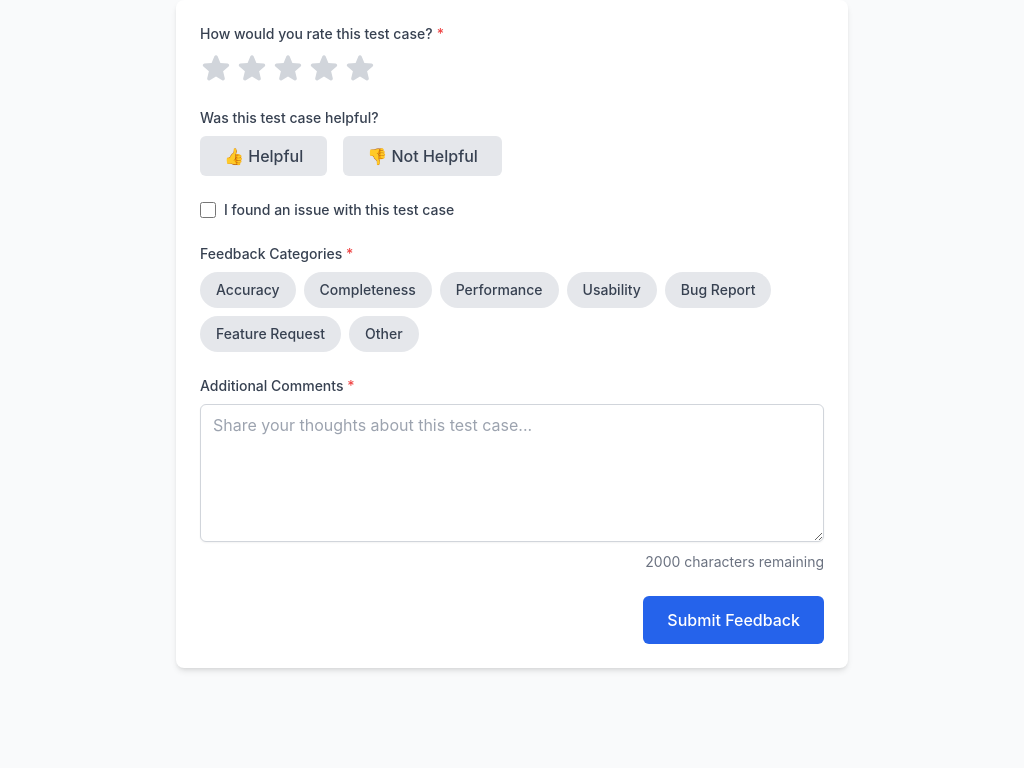
TestCaseFeedback Component › Form Submission › should submit valid feedback successfully
The width and height of the screenshot is (1024, 768).
// Fill form
Click the button named "star" at coordinates (324, 68), box [308, 52, 340, 84]
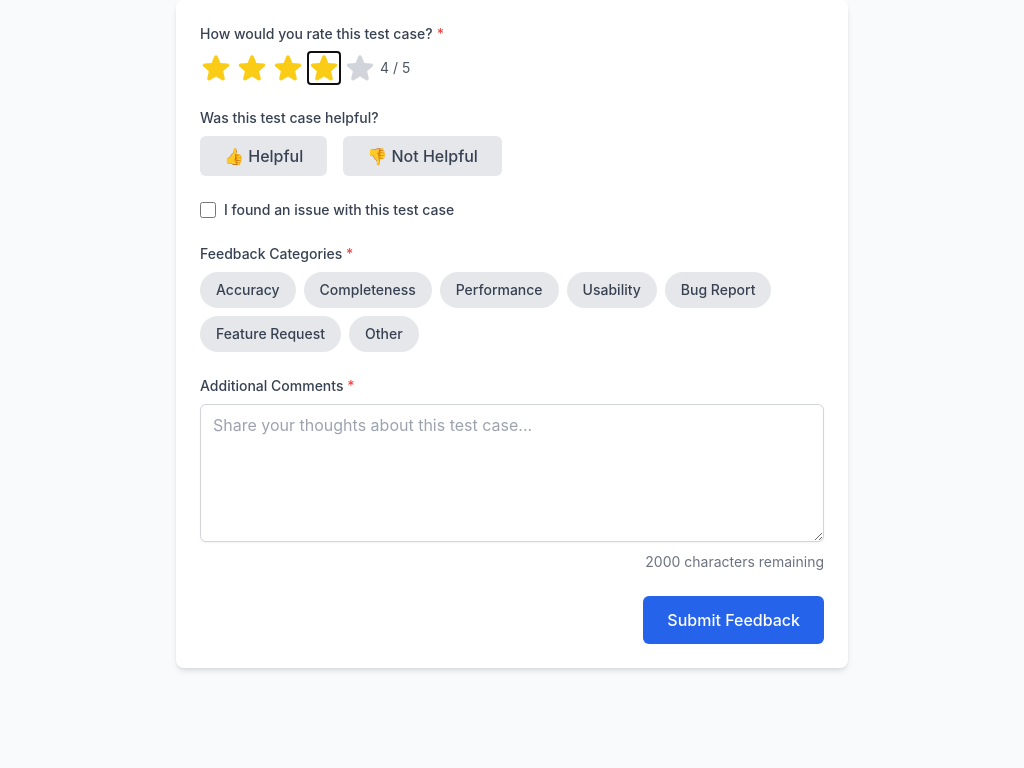
Click the button "👍 Helpful" at coordinates (264, 156), box [200, 136, 327, 176]
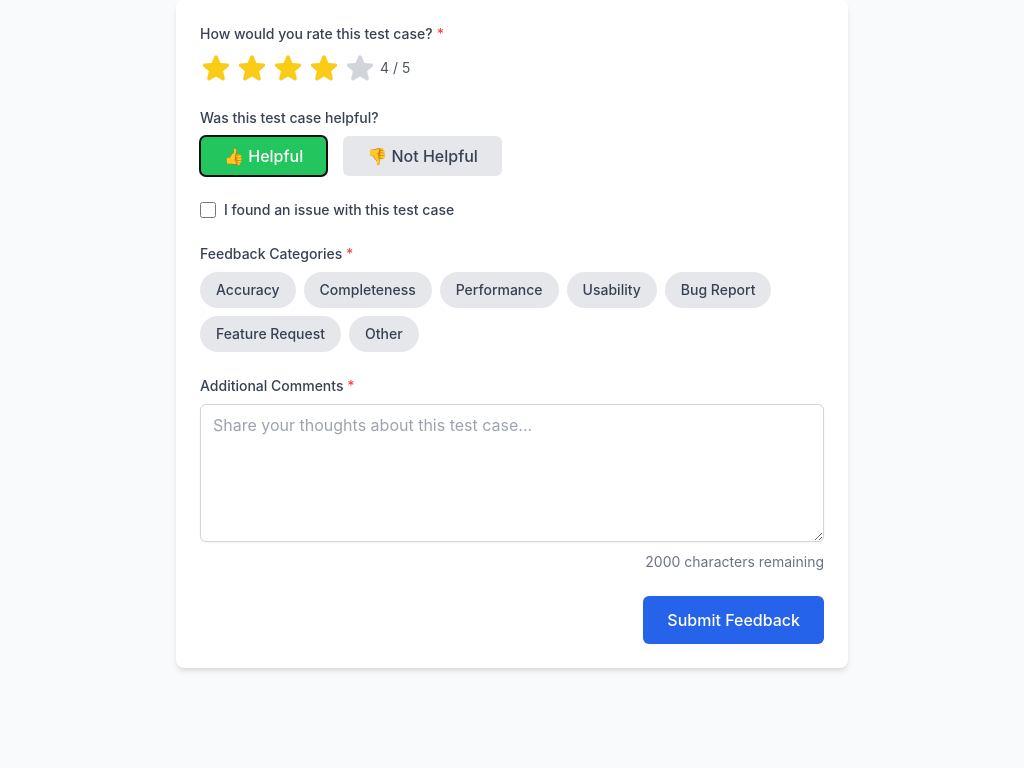
Click the checkbox labelled "I found an issue with this test case" at coordinates (208, 210), box [200, 202, 216, 218]
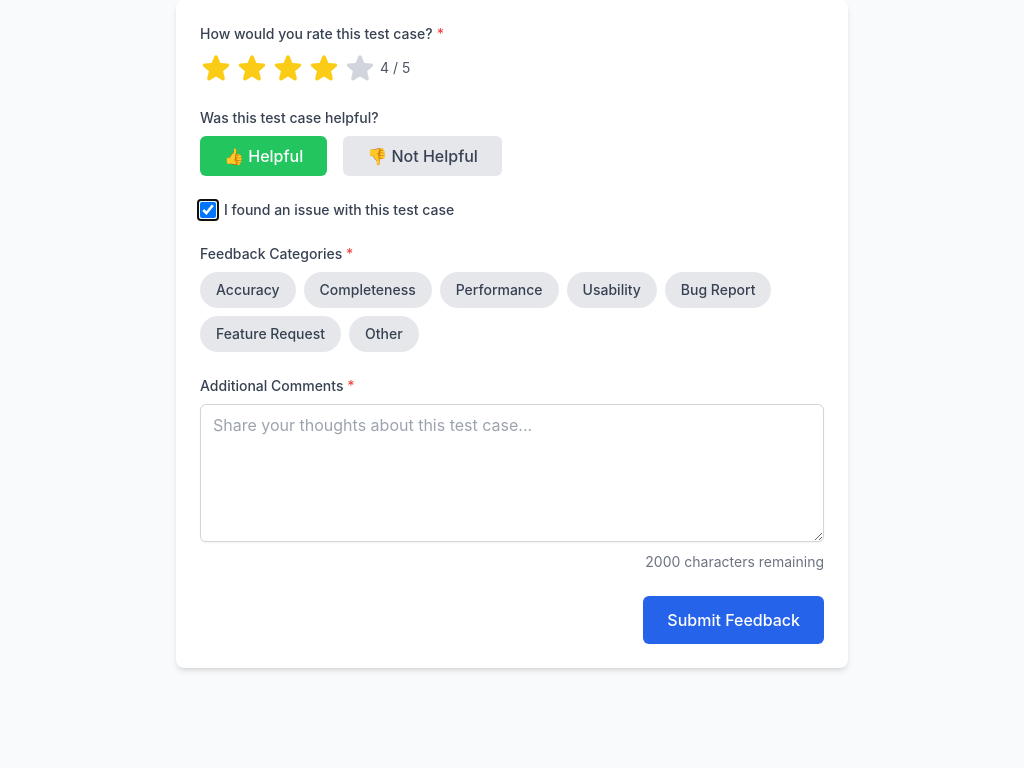
Type "Excellent test coverage!" into the text box with placeholder "Share your thoughts about this test case..." at coordinates (512, 473), box [200, 404, 824, 542]
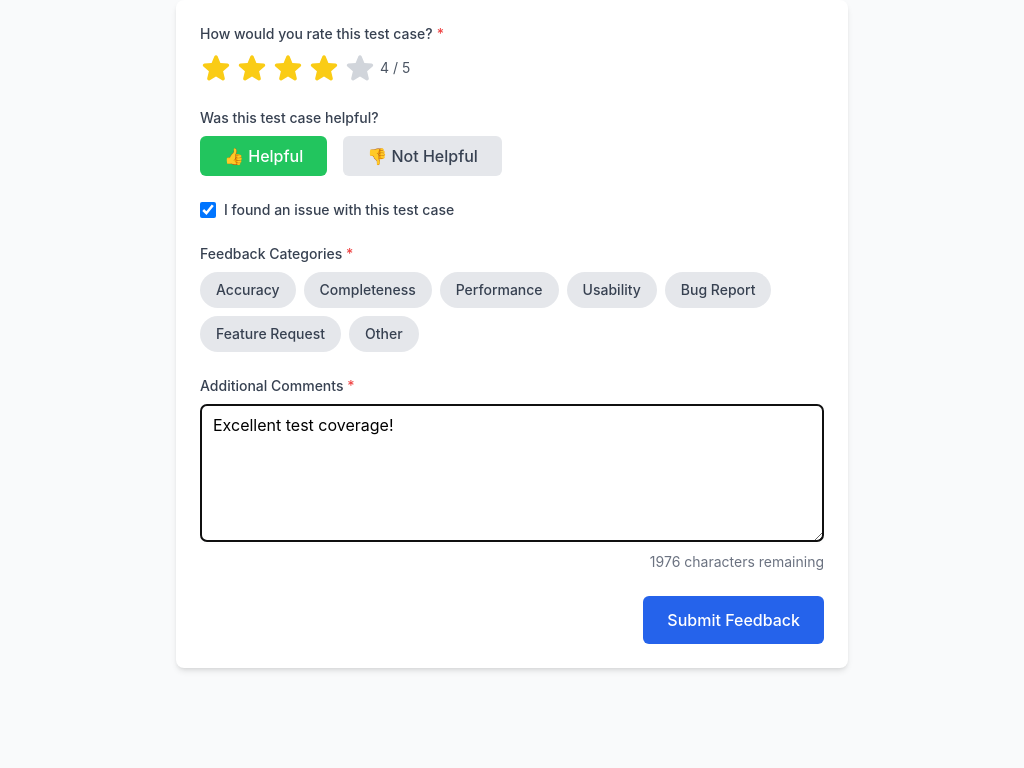
Click the button "Accuracy" at coordinates (248, 290), box [200, 272, 296, 308]
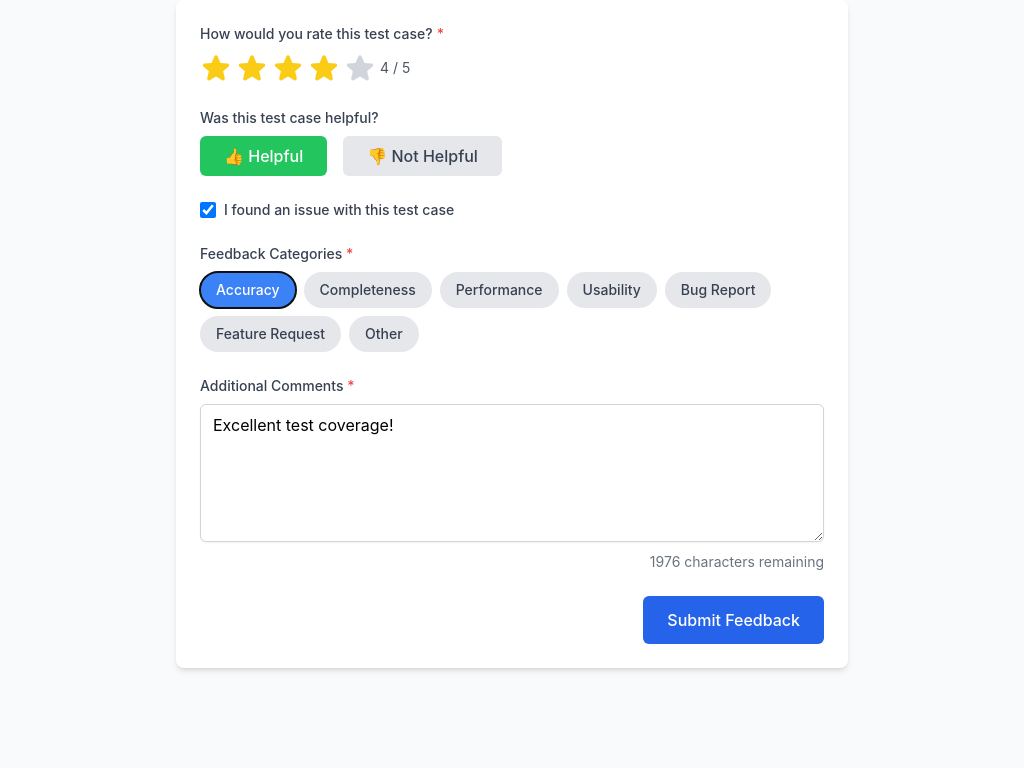
Click the button "Submit Feedback" at coordinates (734, 620), box [643, 596, 824, 644]
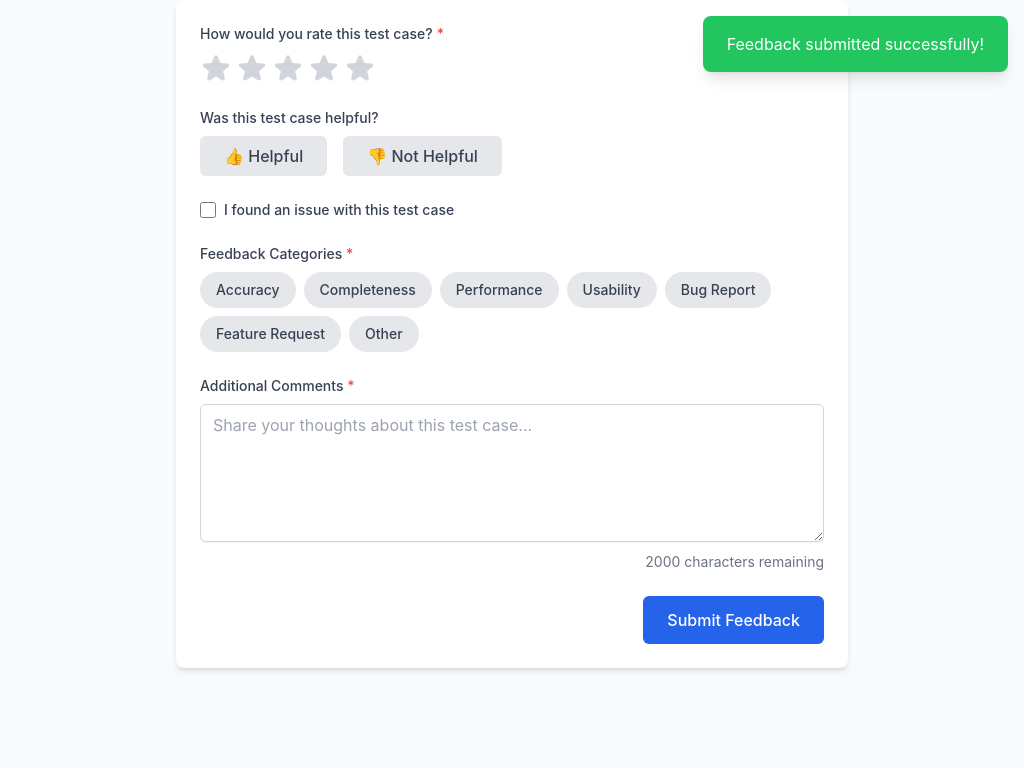
Expected: the text "Feedback submitted successfully!" is shown, [703, 16, 1008, 72]
